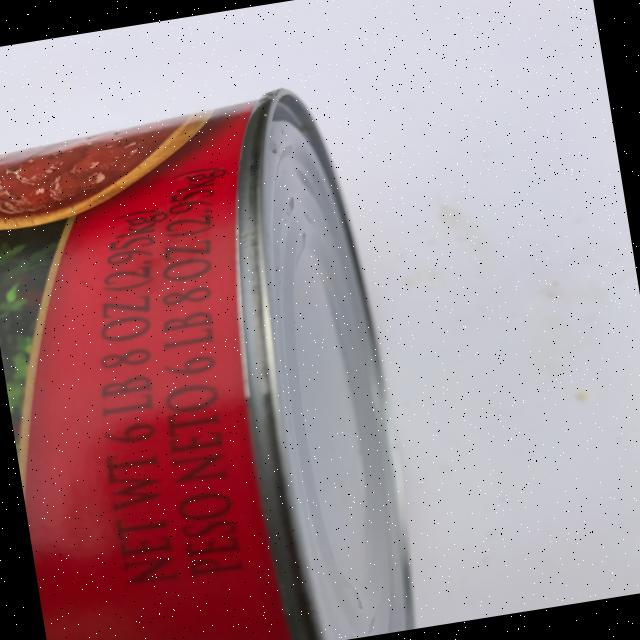metal: (0, 78, 423, 640)
